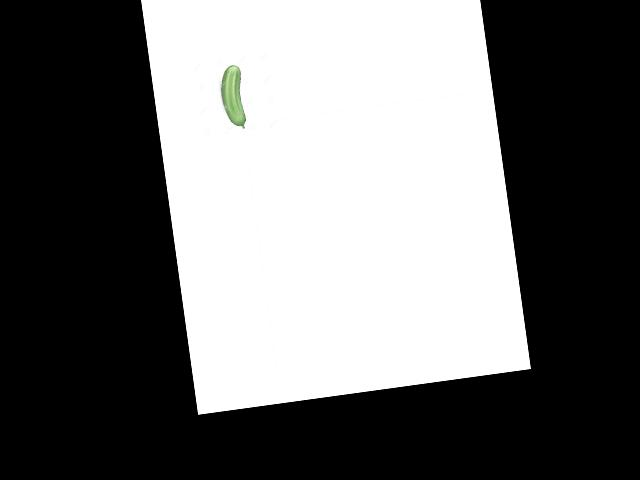cucumber: (217, 64, 248, 130)
